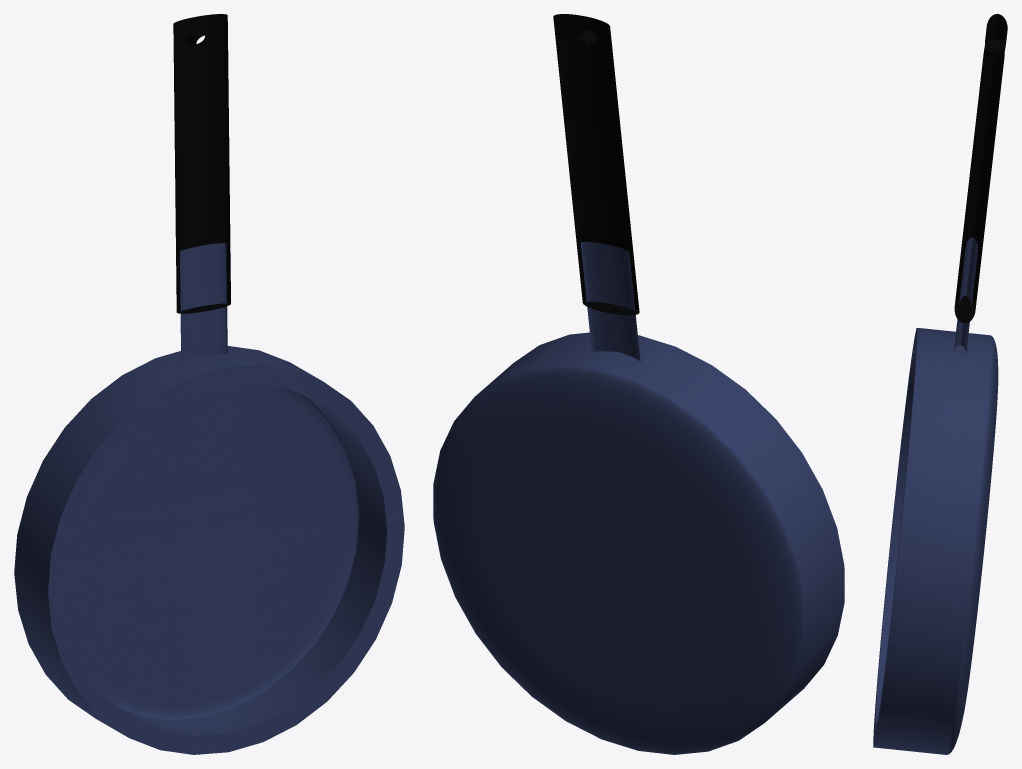
Rendered from sarten.obj.
The picture shows the model from 3 angles, left to right: view 1: azimuth 30°, elevation 25°; view 2: azimuth 150°, elevation 25°; view 3: azimuth 270°, elevation 25°; orthographic projection. The views are drawn at different scales.
Parts seen in each view (by area): view 1: Cilindro.028; view 2: Cilindro.028; view 3: Cilindro.028.
Part boxes in pixels (x1,y1,x2,y2): Cilindro.028: (14, 14, 404, 754); Cilindro.028: (433, 14, 844, 754); Cilindro.028: (873, 14, 1007, 754).
Bounding box in the file's own units: 4.76 × 8.9 × 1.5.
Materials: 3 (2 with a texture image).
